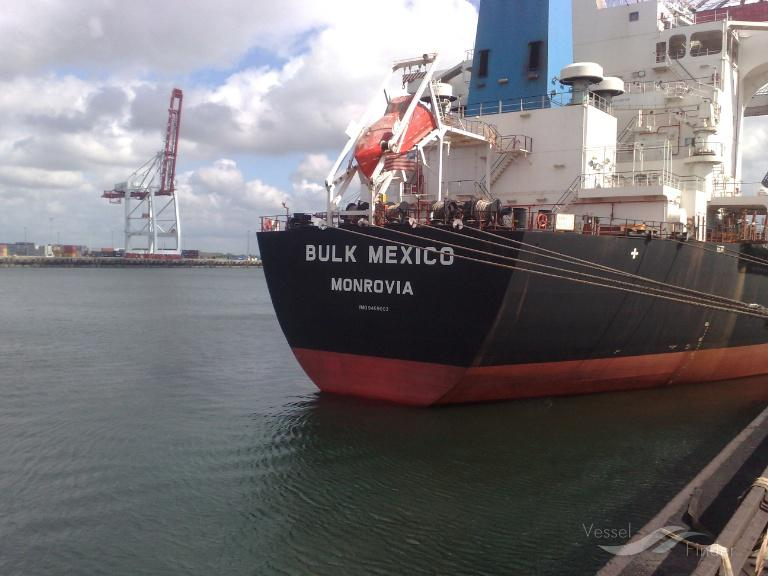OCR: (298, 236, 463, 302)
